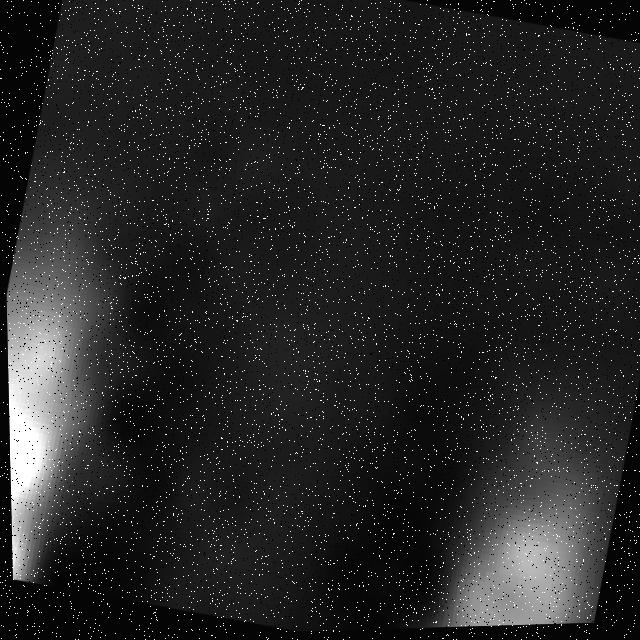person: (346, 345, 640, 633), (4, 191, 181, 599)
